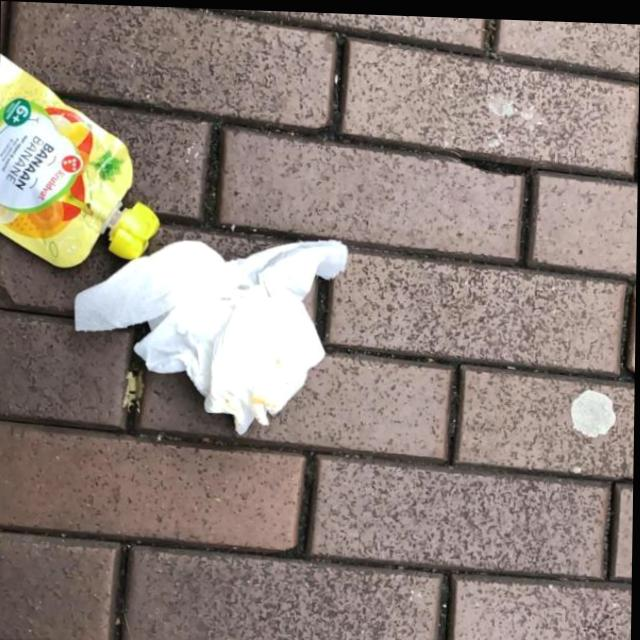Paper: (71, 226, 353, 437)
